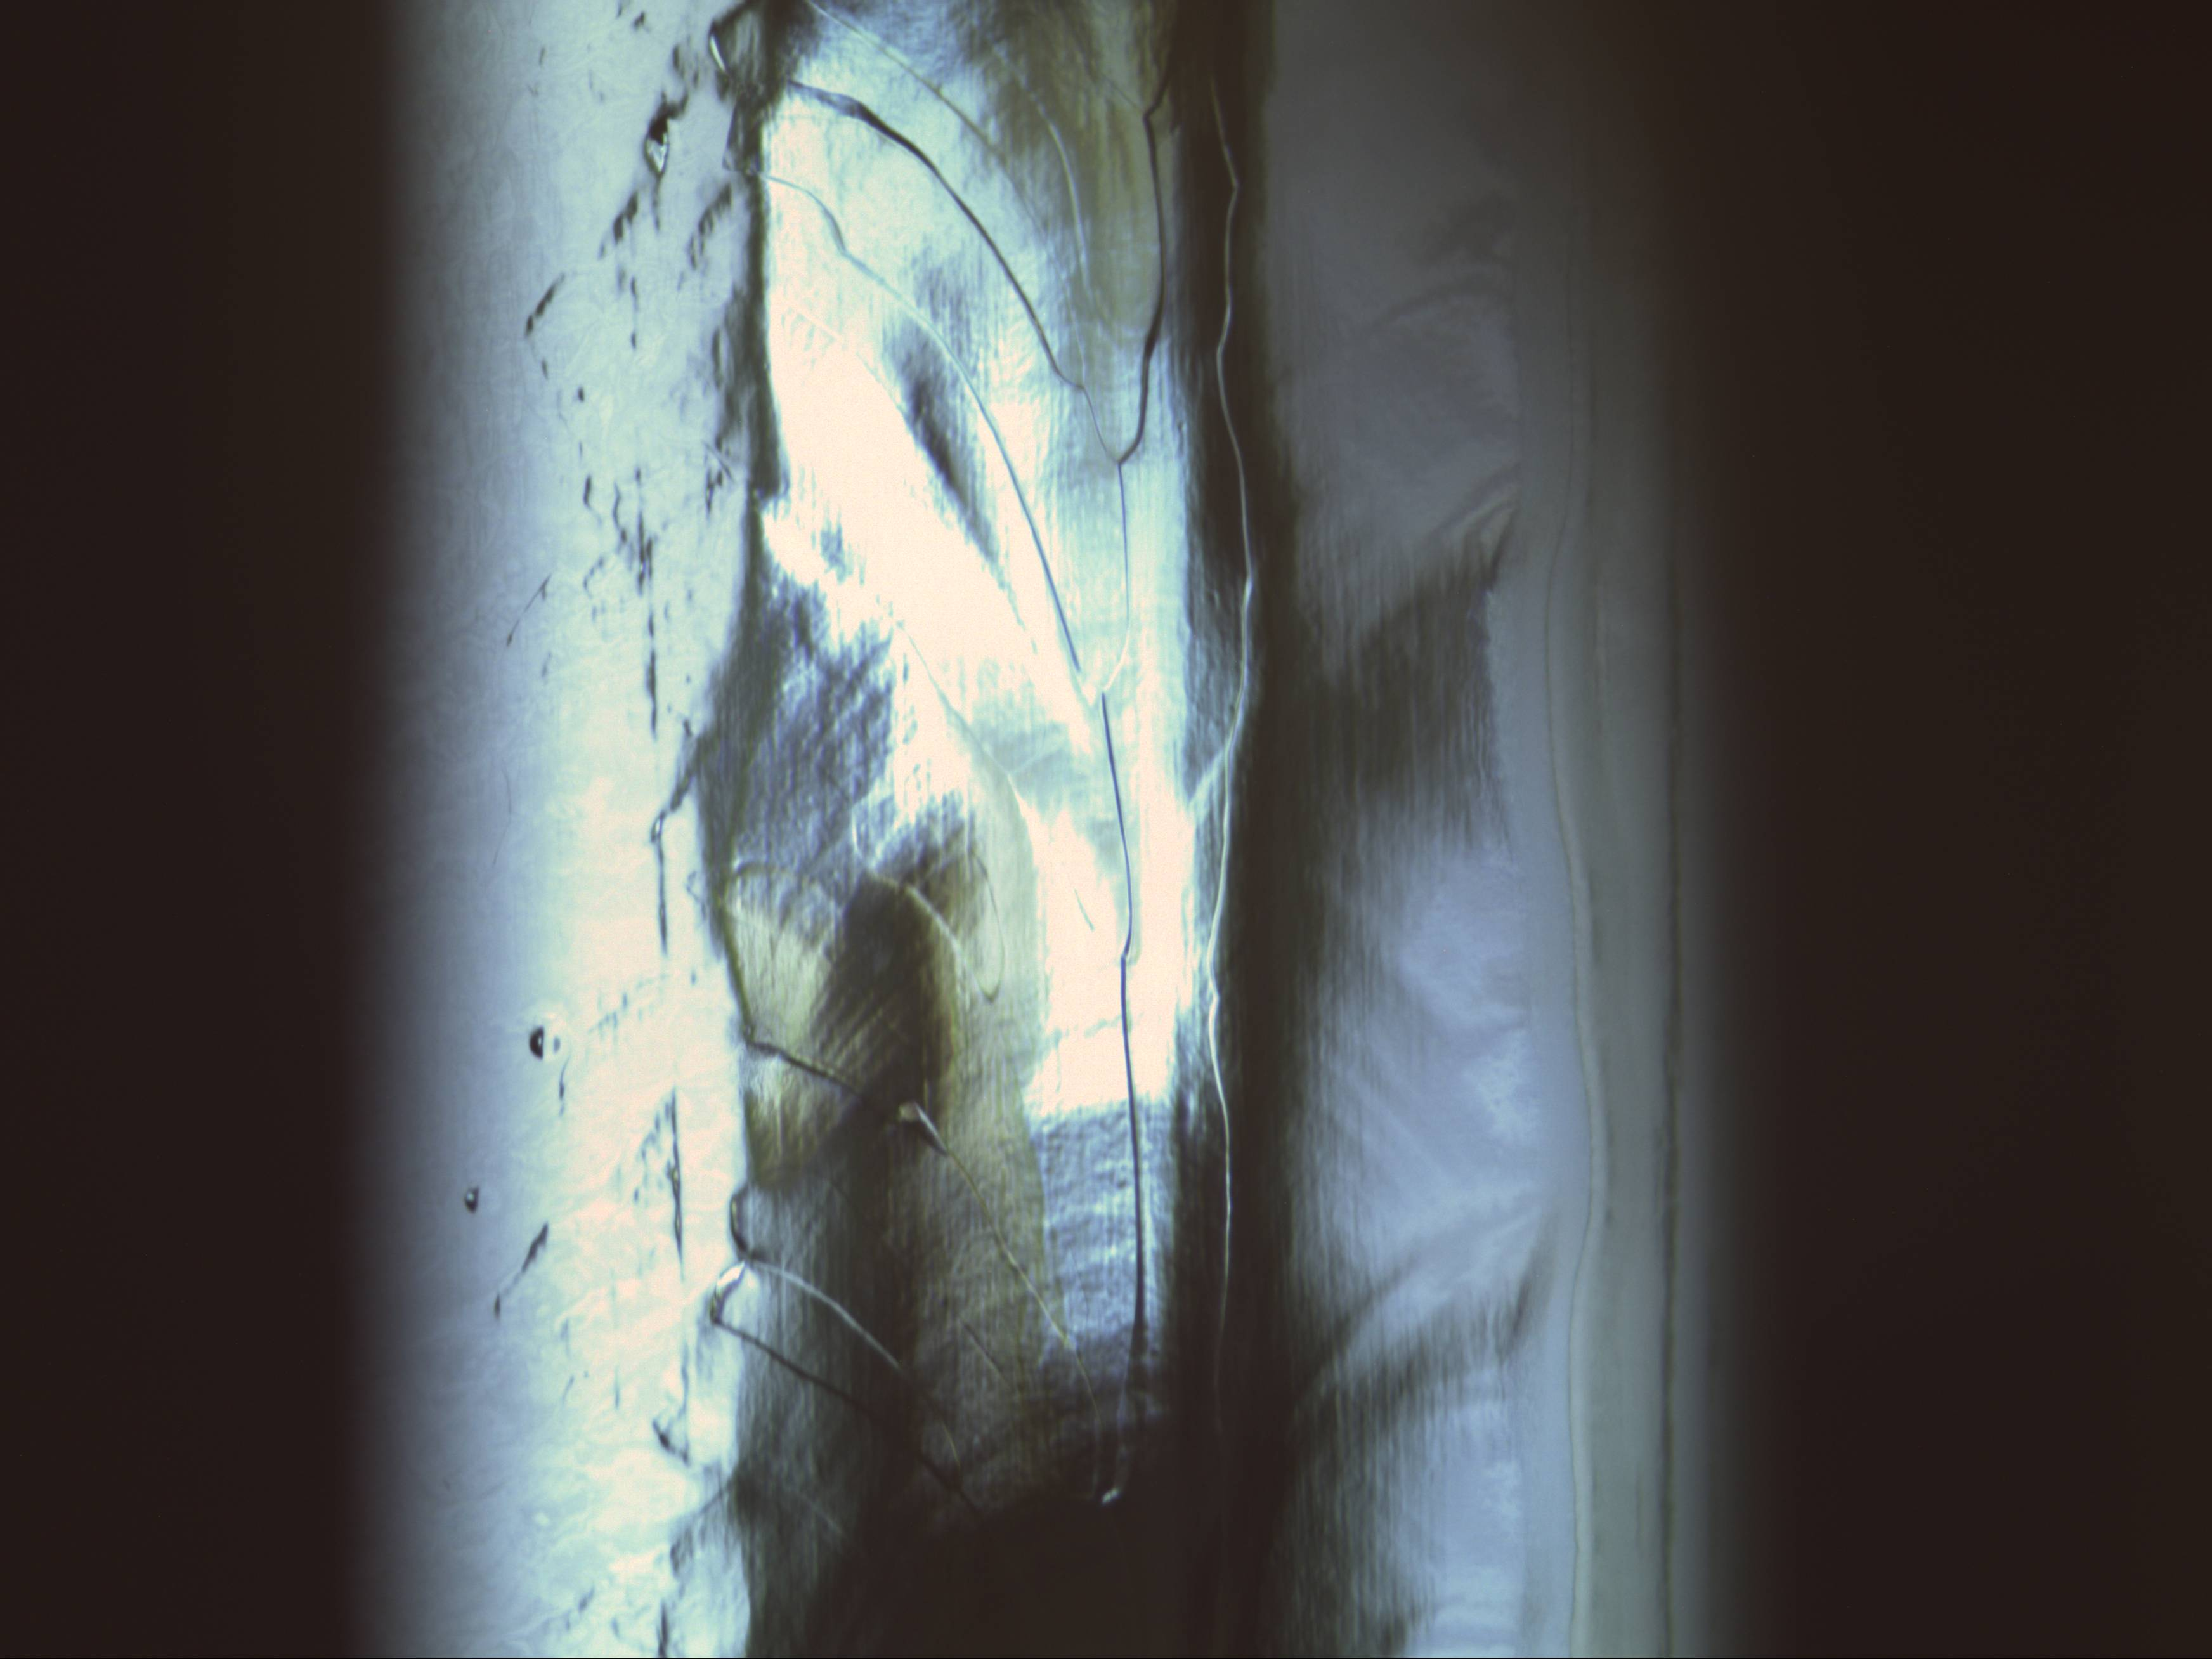defect: (521, 1016, 568, 1073)
